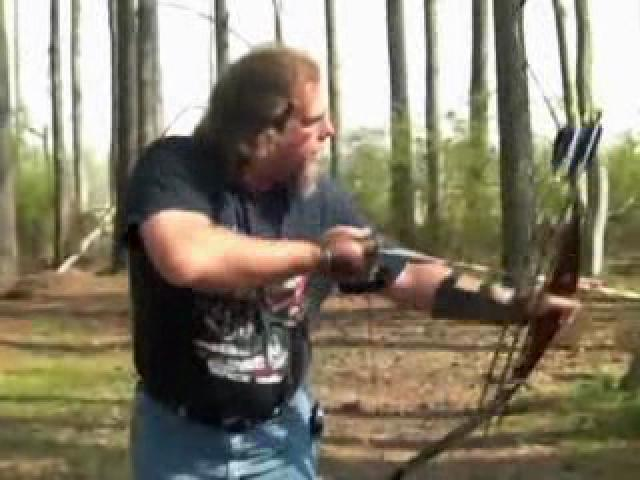I: (109, 30, 590, 480)
